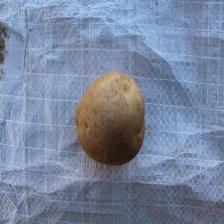Diseased-fungal potato: (74, 68, 146, 168)
